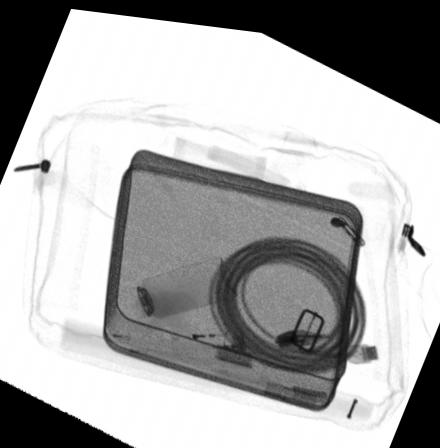Lighter: (166, 322, 247, 350)
Sprayer: (115, 250, 237, 322)
